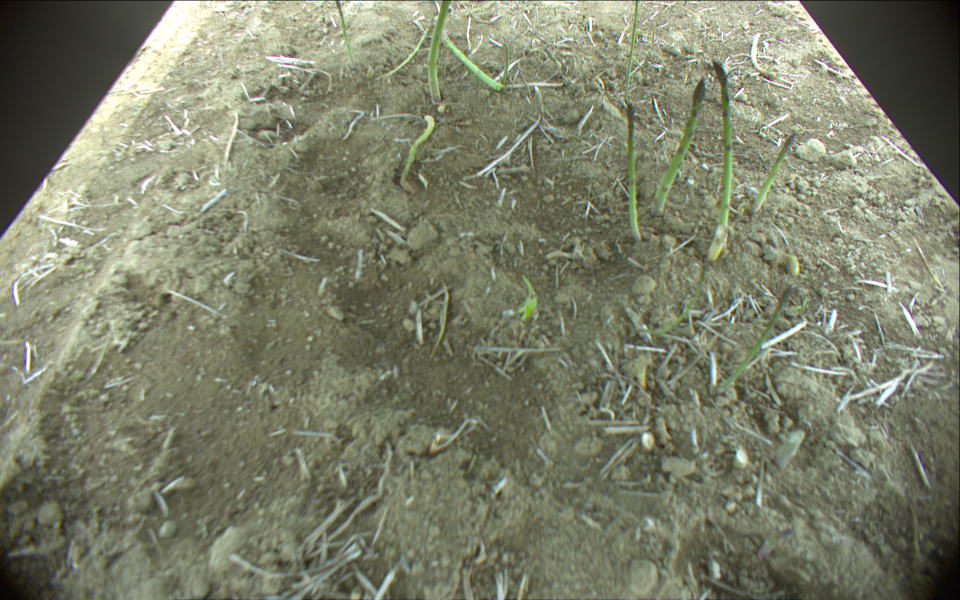aspa: (651, 76, 705, 216), (723, 285, 794, 389), (712, 54, 734, 262), (439, 27, 507, 94), (641, 271, 710, 335), (753, 132, 799, 212), (375, 22, 428, 83), (624, 101, 646, 243), (400, 109, 437, 187), (429, 1, 451, 101), (332, 1, 355, 69), (622, 1, 637, 95)
